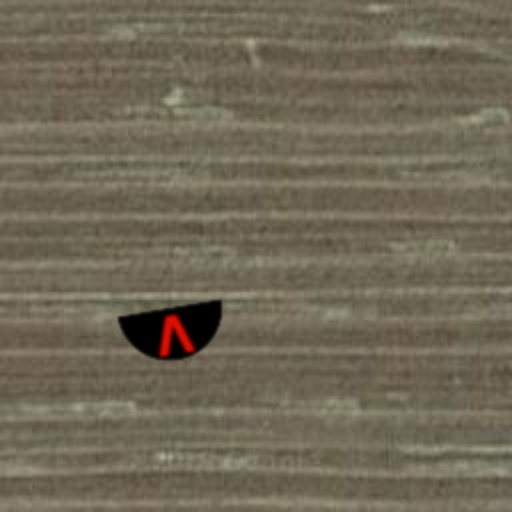semicircle: (112, 272, 236, 396)
